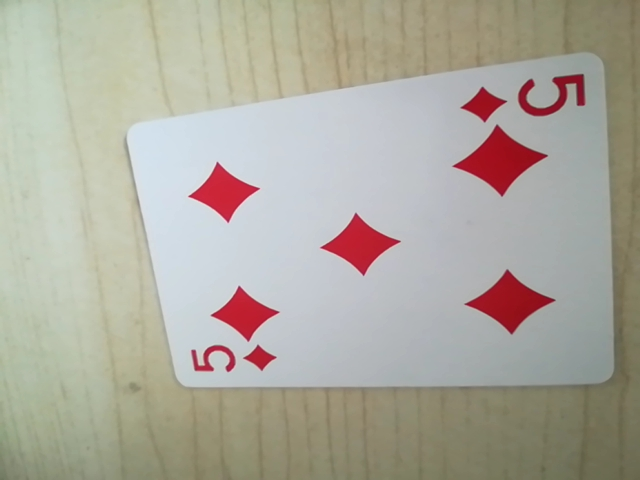fk 5: (461, 66, 589, 129), (185, 336, 282, 383)
